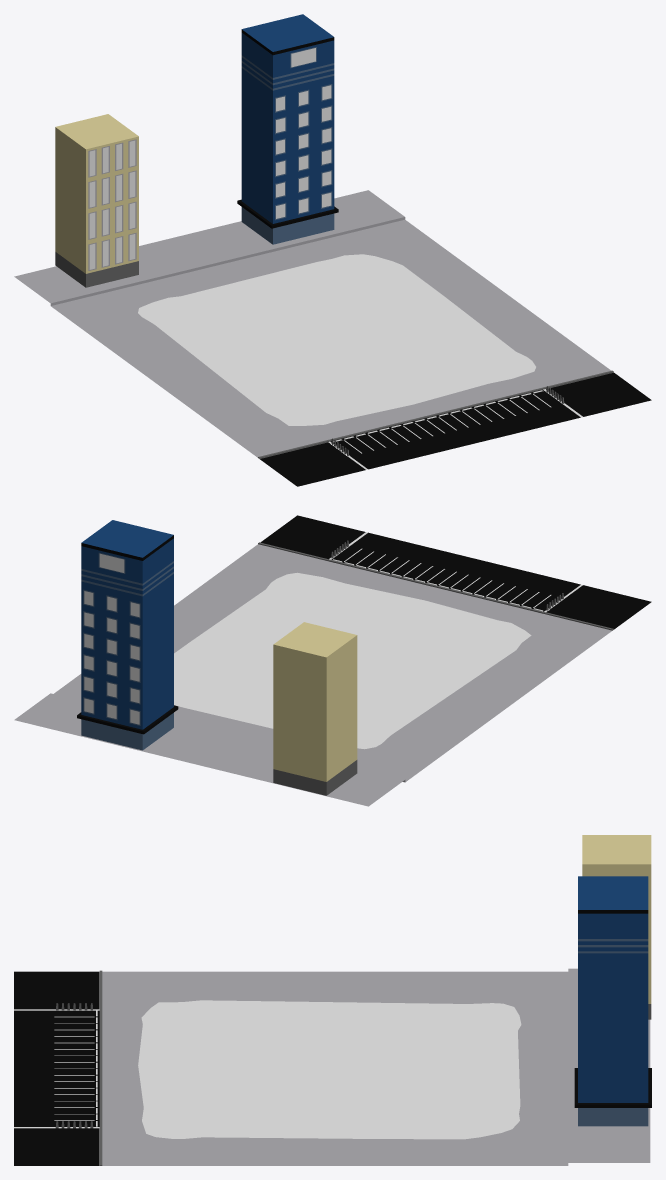
File: Complemento Estadio Escola.fbx
3 views of the same model, one above another, from view 1: azimuth 30°, elevation 25°; view 2: azimuth 150°, elevation 25°; view 3: azimuth 270°, elevation 25° (orthographic). The views are drawn at different scales.
Visible parts, largest first — view 1: Fora do Campo Estadio sem pontas; view 2: Fora do Campo Estadio sem pontas; view 3: Fora do Campo Estadio sem pontas.
Part boxes in pixels (x1,y1,x2,y2): Fora do Campo Estadio sem pontas: (14,14,651,486); Fora do Campo Estadio sem pontas: (14,515,651,806); Fora do Campo Estadio sem pontas: (14,835,651,1165).
Bounding box in the file's own units: 36086 × 26000 × 13705.
